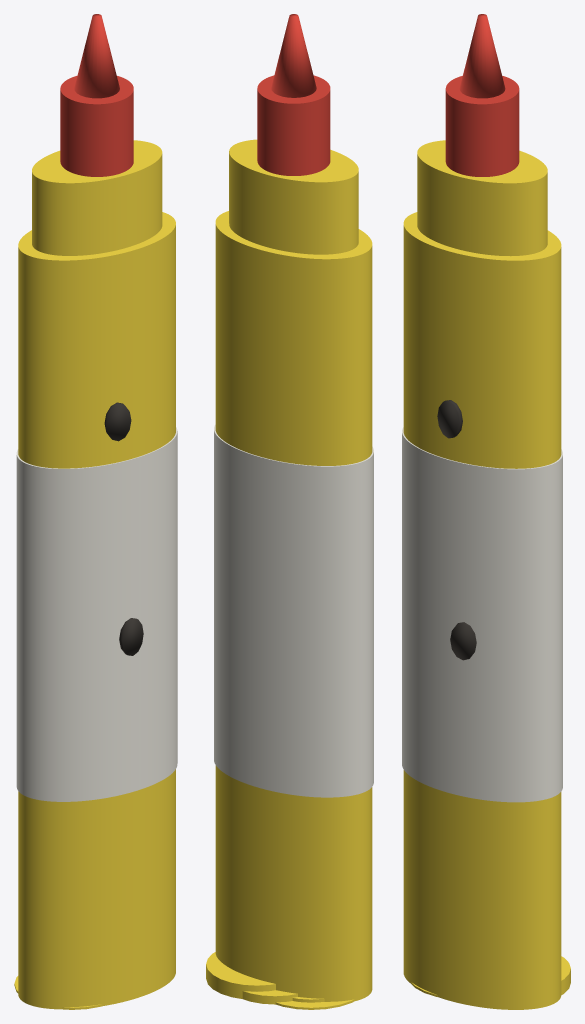
File: mustard_dmg.glb
The picture shows the model from 3 angles, left to right: view 1: azimuth 30°, elevation 25°; view 2: azimuth 150°, elevation 25°; view 3: azimuth 330°, elevation 25°; orthographic projection.
Visible parts, largest first — view 1: Cylinder.011, Cylinder.014, Cylinder.012, Cylinder.013, Cone.001, Cylinder.016, Cylinder.015; view 2: Cylinder.011, Cylinder.014, Cylinder.012, Cylinder.013, Cone.001, Cylinder.021, Cylinder.019, Cylinder.017; view 3: Cylinder.011, Cylinder.014, Cylinder.012, Cylinder.013, Cone.001, Cylinder.015, Cylinder.016.
Boxes of the visible parts, x1=… form: Cylinder.011: x1=18, y1=212, x2=175, y2=1009; Cylinder.014: x1=16, y1=427, x2=177, y2=801; Cylinder.012: x1=32, y1=140, x2=162, y2=255; Cylinder.013: x1=60, y1=76, x2=133, y2=176; Cone.001: x1=74, y1=14, x2=119, y2=98; Cylinder.016: x1=104, y1=402, x2=131, y2=441; Cylinder.015: x1=119, y1=618, x2=143, y2=655; Cylinder.011: x1=215, y1=211, x2=372, y2=1001; Cylinder.014: x1=214, y1=424, x2=373, y2=797; Cylinder.012: x1=229, y1=139, x2=358, y2=254; Cylinder.013: x1=257, y1=75, x2=330, y2=175; Cone.001: x1=271, y1=14, x2=316, y2=97; Cylinder.021: x1=206, y1=952, x2=275, y2=998; Cylinder.019: x1=242, y1=990, x2=297, y2=1004; Cylinder.017: x1=275, y1=999, x2=354, y2=1009; Cylinder.011: x1=403, y1=212, x2=561, y2=1009; Cylinder.014: x1=402, y1=427, x2=562, y2=802; Cylinder.012: x1=417, y1=140, x2=547, y2=256; Cylinder.013: x1=445, y1=76, x2=519, y2=176; Cone.001: x1=459, y1=14, x2=505, y2=98; Cylinder.015: x1=450, y1=622, x2=476, y2=660; Cylinder.016: x1=437, y1=400, x2=462, y2=438.
Bounding box in the file's own units: 1.53 × 9.3 × 1.12.
